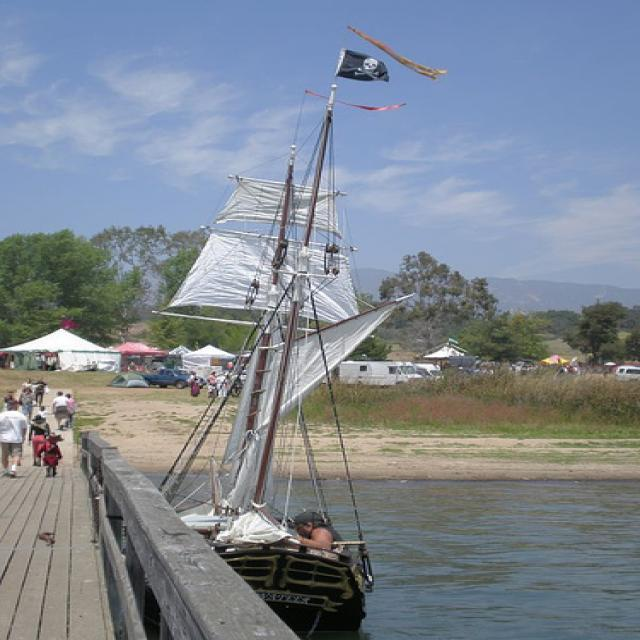Ship: (130, 47, 397, 604)
